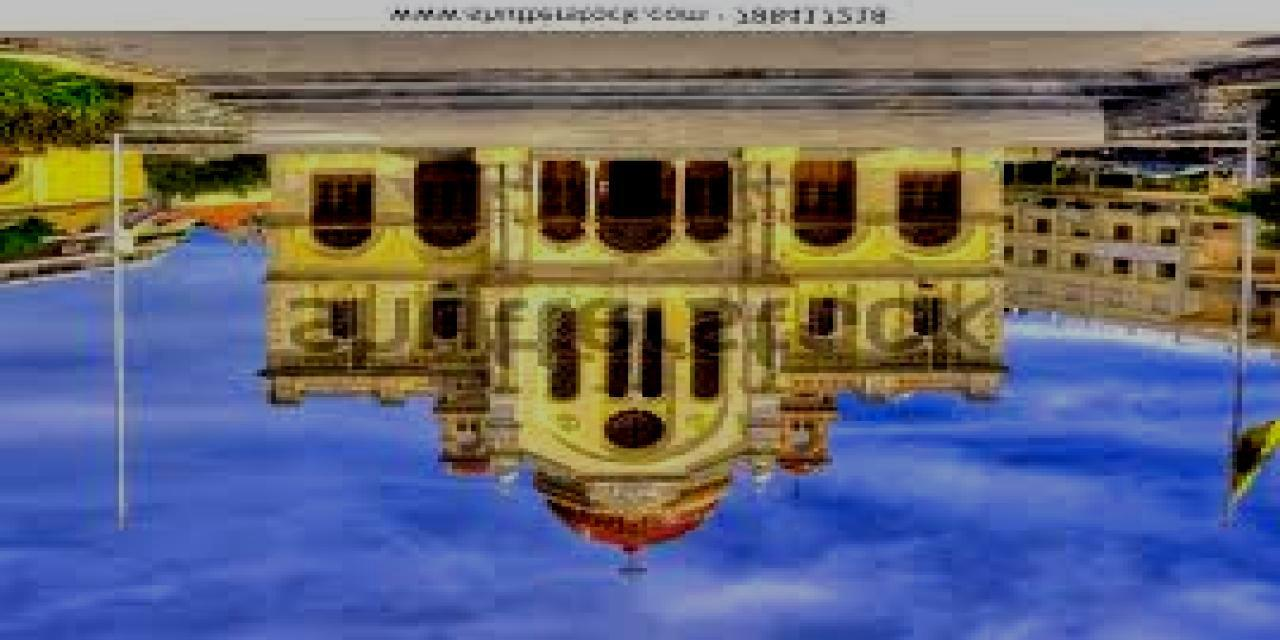Agios Minas: (243, 144, 1019, 602)
